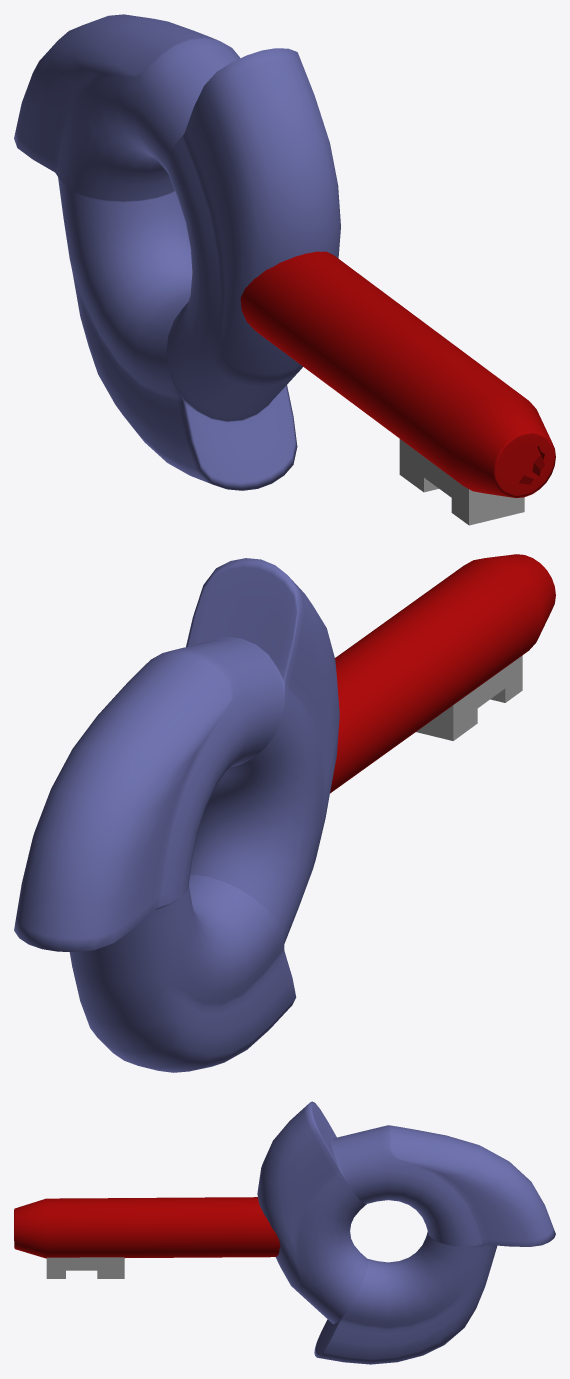
The model's file is Llave.fbx.
The picture shows the model from 3 angles, top to bottom: view 1: azimuth 30°, elevation 25°; view 2: azimuth 150°, elevation 25°; view 3: azimuth 270°, elevation 25°; orthographic projection. The views are drawn at different scales.
Parts seen in each view (by area): view 1: pTorus1, pCylinder1, pCube3; view 2: pTorus1, pCylinder1, pCube3; view 3: pTorus1, pCylinder1, pCube3.
Boxes of the visible parts, box(x1,y1,x2,y2) form: pTorus1: box(14, 14, 340, 490); pCylinder1: box(240, 251, 555, 498); pCube3: box(399, 439, 524, 525); pTorus1: box(14, 558, 339, 1072); pCylinder1: box(330, 554, 555, 793); pCube3: box(416, 655, 522, 740); pTorus1: box(257, 1101, 555, 1364); pCylinder1: box(14, 1197, 280, 1258); pCube3: box(46, 1257, 124, 1278).
Bounding box in the file's own units: 0.5 × 1.9 × 3.67.
